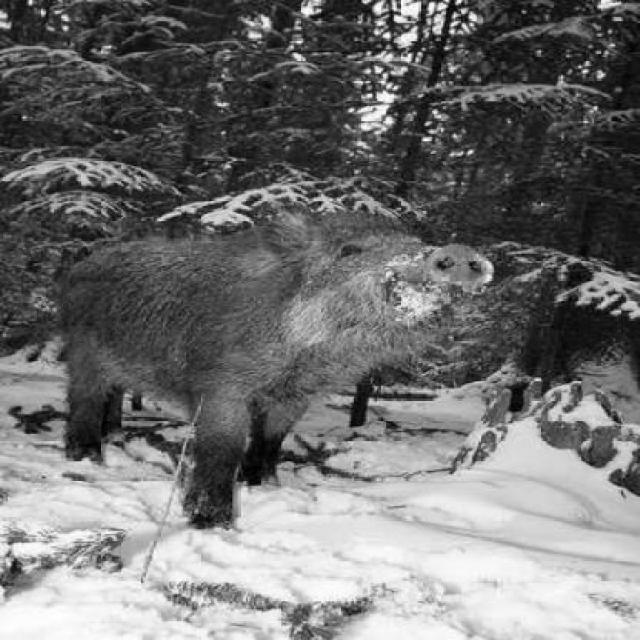Boar: (49, 164, 522, 534)
